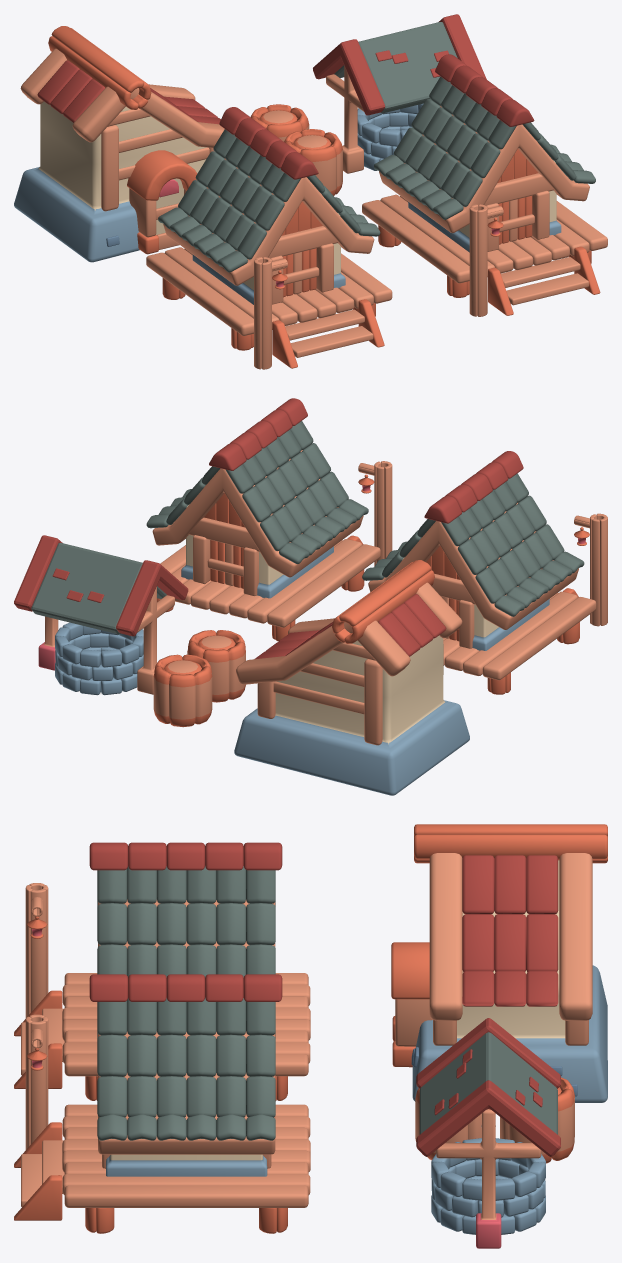
File: village.fbx
3 renders of one model, top to bottom at view 1: azimuth 30°, elevation 25°; view 2: azimuth 150°, elevation 25°; view 3: azimuth 270°, elevation 25°, orthographic. The views are drawn at different scales.
Parts seen in each view (by area): view 1: Plane.007, Cube.014, Cube.008, Plane.021, Plane.028, Plane.006, Plane.009, Cube.011, Cube.007, Cylinder.009, Plane.014, Cube.015 (+29 smaller); view 2: Plane.007, Cube.008, Cube.014, Plane.021, Plane.028, Plane.009, Cylinder.014, Plane.006, Cube.011, Cylinder.013, Cube.007, Cylinder.009 (+22 smaller); view 3: Cube.014, Cube.008, Plane.014, Plane.028, Plane.021, Plane.009, Plane.007, Cylinder.014, Plane.006, Cylinder.009, Cube.009, Cube.015 (+17 smaller).
Part boxes in pixels (box(x1,y1,x2,y2)): Plane.007: box(14, 101, 206, 262); Cube.014: box(373, 76, 595, 219); Cube.008: box(158, 129, 380, 272); Plane.021: box(313, 14, 486, 115); Plane.028: box(362, 194, 607, 283); Plane.006: box(146, 247, 392, 335); Plane.009: box(20, 48, 224, 147); Cube.011: box(379, 106, 589, 233); Cube.007: box(163, 158, 374, 285); Cylinder.009: box(48, 26, 151, 109); Plane.014: box(37, 60, 220, 124); Cube.015: box(435, 54, 534, 126); Plane.007: box(234, 635, 469, 795); Cube.008: box(362, 473, 584, 616); Cube.014: box(146, 421, 368, 564); Plane.021: box(14, 535, 188, 636); Plane.028: box(160, 539, 380, 627); Plane.009: box(236, 582, 462, 684); Cylinder.014: box(55, 622, 143, 695); Plane.006: box(443, 591, 596, 680); Cube.011: box(152, 450, 363, 577); Cylinder.013: box(153, 654, 212, 727); Cube.007: box(368, 503, 578, 629); Cylinder.009: box(332, 560, 434, 643); Cube.014: box(97, 997, 275, 1140); Cube.008: box(97, 866, 275, 977); Plane.014: box(462, 855, 558, 1006); Plane.028: box(62, 1104, 310, 1207); Plane.021: box(416, 1018, 560, 1156); Plane.009: box(429, 853, 592, 1020); Plane.007: box(412, 860, 607, 1102); Cylinder.014: box(431, 1138, 545, 1234); Plane.006: box(62, 973, 310, 1076); Cylinder.009: box(414, 824, 607, 863); Cube.009: box(89, 842, 282, 870); Cube.015: box(89, 974, 282, 1001).
Size of the model in its own units: 301 by 126 by 309.
